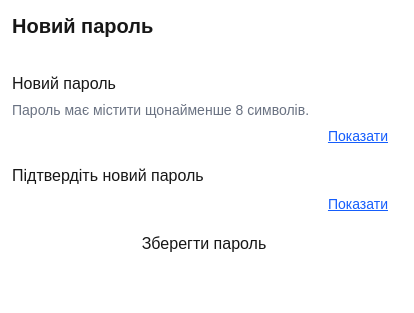
Scenario: ResetPasswordForm › test_error_shows_its_fixed_message_(500)
In the password field labelled "Новий пароль": [204, 136] box 12,124 -> 396,148, type "staple-new-horse-battery"
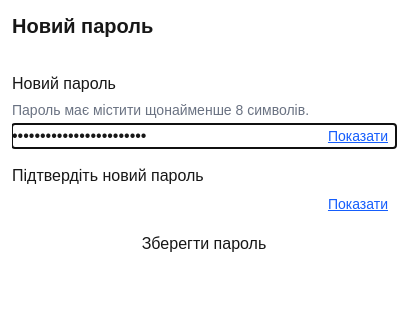
In the password field labelled "Підтвердіть новий пароль": [204, 204] box 12,192 -> 396,216, type "staple-new-horse-battery"
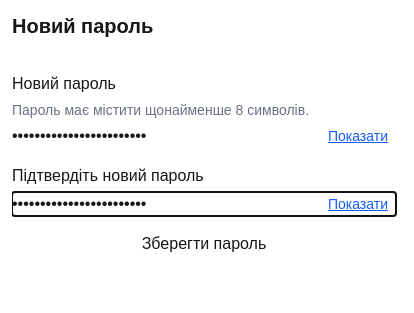
Click the button "Зберегти пароль": [204, 244] box 12,232 -> 396,256
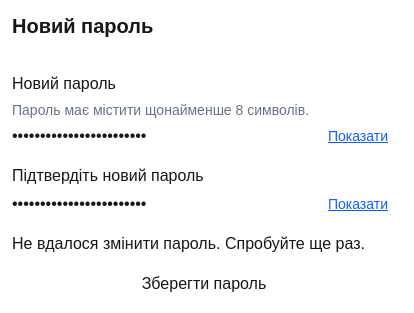
Expected: the button "Зберегти пароль" is shown, 12,272 -> 396,296
Result: the message reads "Не вдалося змінити пароль. Спробуйте ще раз." at 12,235 -> 365,252
